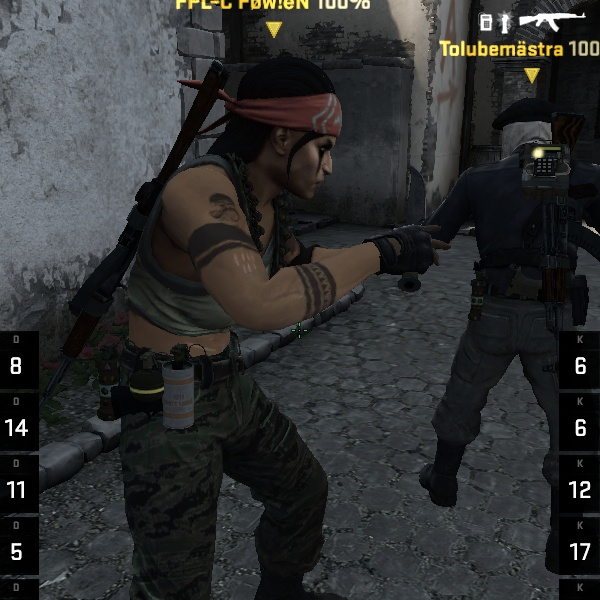t_body: (48, 41, 406, 581), (414, 70, 588, 526)
t_head: (115, 47, 383, 257), (194, 52, 358, 186)
